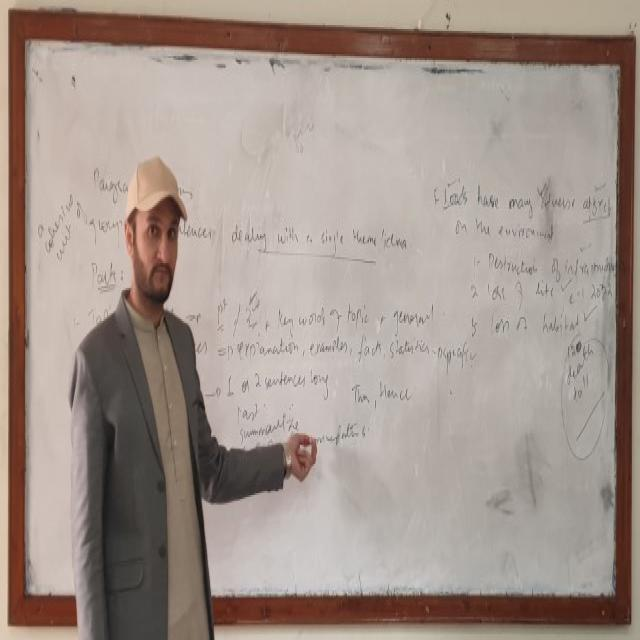Instructor: (87, 147, 208, 640)
White-board: (16, 24, 635, 616)
